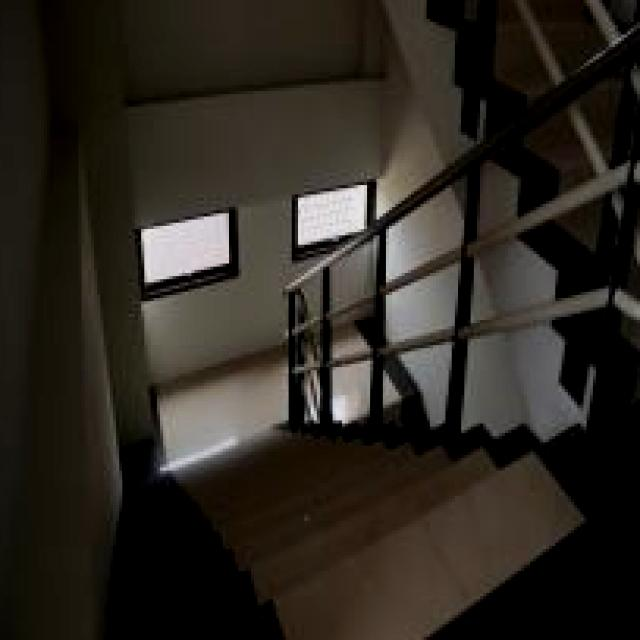downstair: (148, 446, 525, 640)
